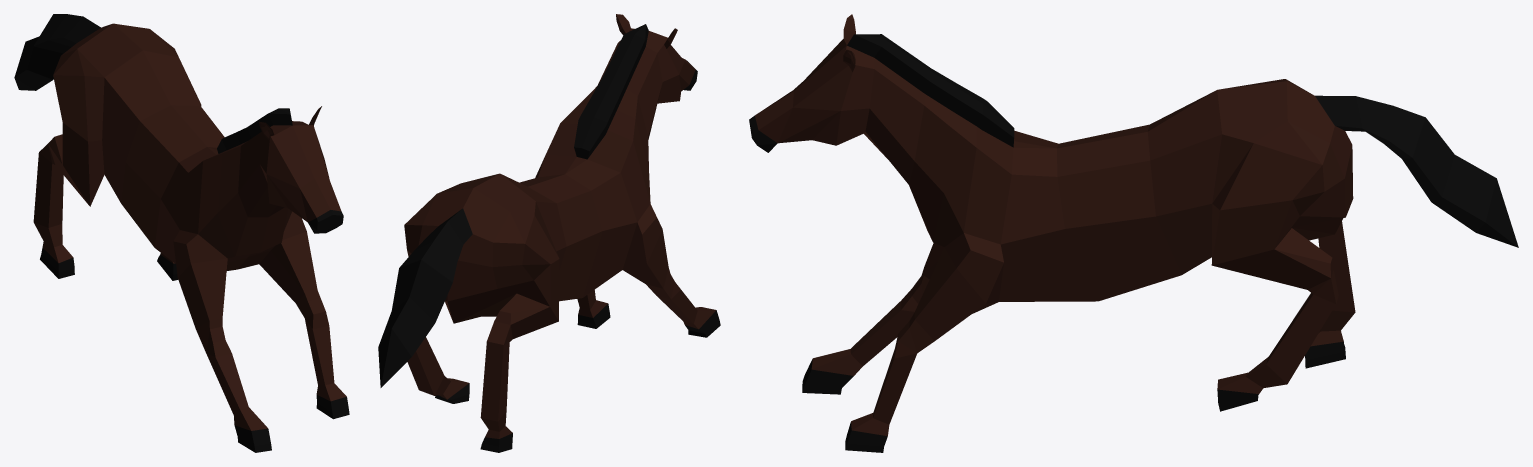
File: Horse_000024.obj
3 views of the same model, side by side, from view 1: azimuth 30°, elevation 25°; view 2: azimuth 150°, elevation 25°; view 3: azimuth 270°, elevation 25° (orthographic). The views are drawn at different scales.
Parts seen in each view (by area): view 1: Horse_Cylinder; view 2: Horse_Cylinder; view 3: Horse_Cylinder.
Boxes of the visible parts, <box> form: Horse_Cylinder: <box>14,14,349,452</box>; Horse_Cylinder: <box>378,14,720,452</box>; Horse_Cylinder: <box>749,14,1518,452</box>.
Size of the model in its own units: 2.54 by 5.86 by 10.6.
